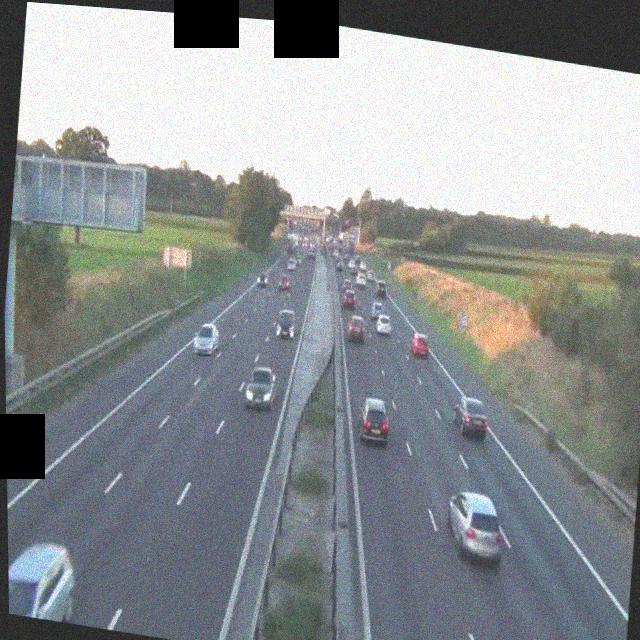car: (8, 533, 77, 623), (444, 488, 507, 566), (451, 395, 491, 440), (357, 395, 392, 445), (244, 364, 278, 411), (193, 320, 222, 358), (274, 308, 296, 341), (408, 330, 431, 358), (345, 315, 366, 343), (372, 311, 393, 337), (341, 289, 356, 310), (279, 274, 290, 291), (375, 279, 386, 296), (256, 272, 268, 287), (356, 271, 367, 287), (286, 258, 297, 273), (333, 256, 343, 270), (358, 259, 368, 272), (294, 250, 303, 263)
truck: (288, 233, 298, 254)
